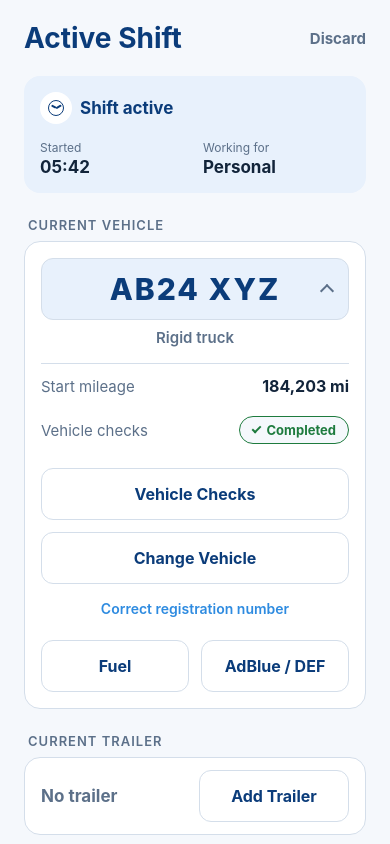
Scenario: the whole folded card, status and all, still opens with one press — and open, it has no status ground
Click the button with test id "current-vehicle-toggle" at [195, 289], box [41, 258, 349, 320]
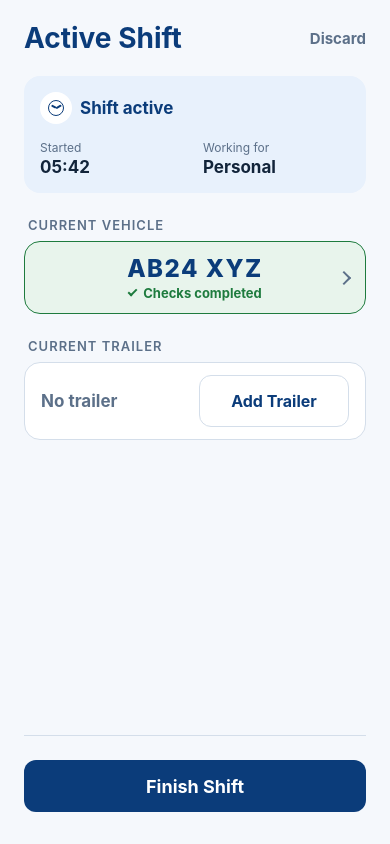
expect the text "Checks completed" is shown: met, box [143, 285, 262, 301]
Click the button with test id "current-vehicle-toggle" at [195, 278], box [25, 242, 365, 313]
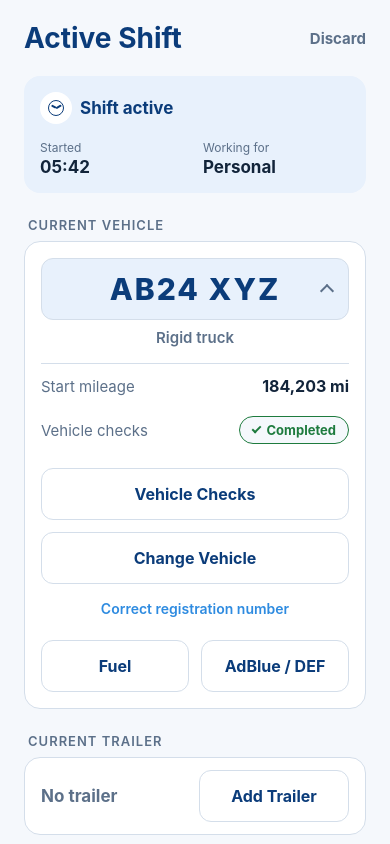
expect the text with test id "vehicle-checks-state" reads "Completed": met, box [266, 422, 336, 438]
expect the text with test id "collapsed-checks-state" is gone: met
